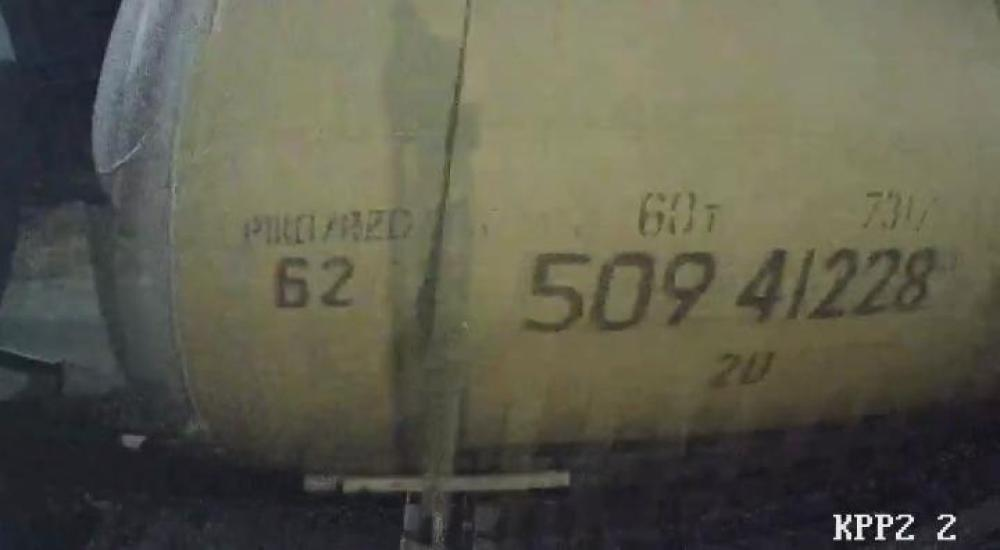Wagon-number: (516, 242, 940, 340)
